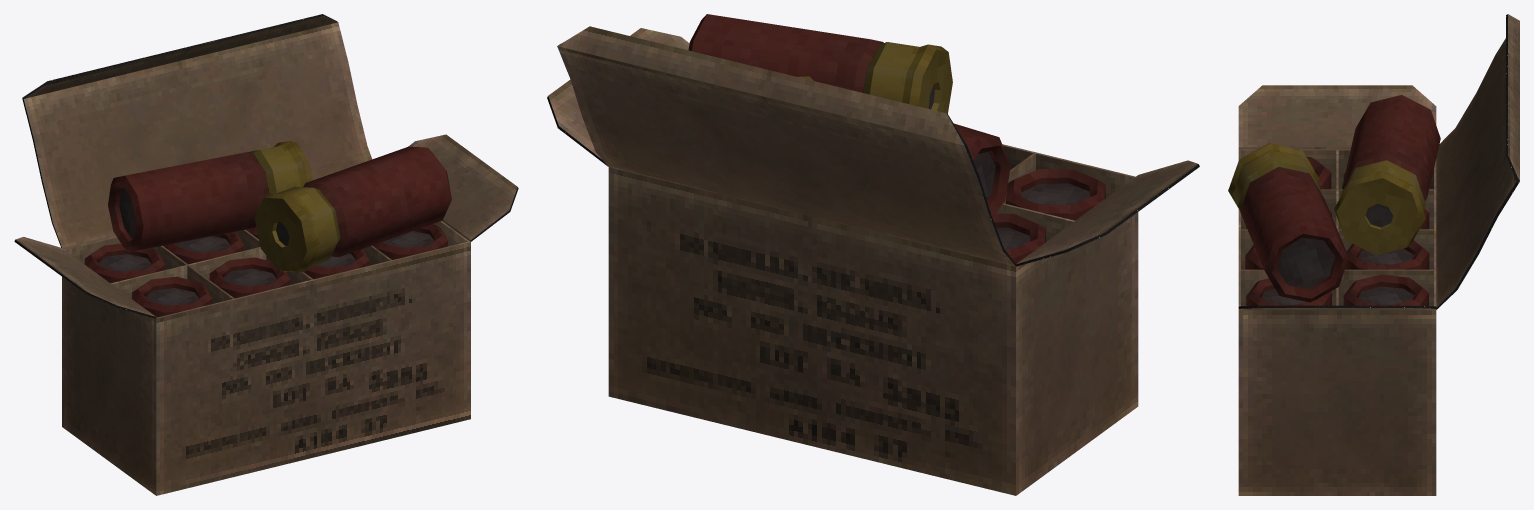
The model's file is shotgun_ammo_2.glb.
The picture shows the model from 3 angles, left to right: view 1: azimuth 30°, elevation 25°; view 2: azimuth 150°, elevation 25°; view 3: azimuth 270°, elevation 25°; orthographic projection. The views are drawn at different scales.
Parts seen in each view (by area): view 1: shotgun_ammo_2; view 2: shotgun_ammo_2; view 3: shotgun_ammo_2.
Boxes of the visible parts, x1,y1,x2,y2 form: shotgun_ammo_2: (14, 14, 518, 495); shotgun_ammo_2: (547, 14, 1199, 495); shotgun_ammo_2: (1228, 14, 1519, 495).
Bounding box in the file's own units: 0.1979 × 0.138 × 0.1102.
1 material, 1 textured.
